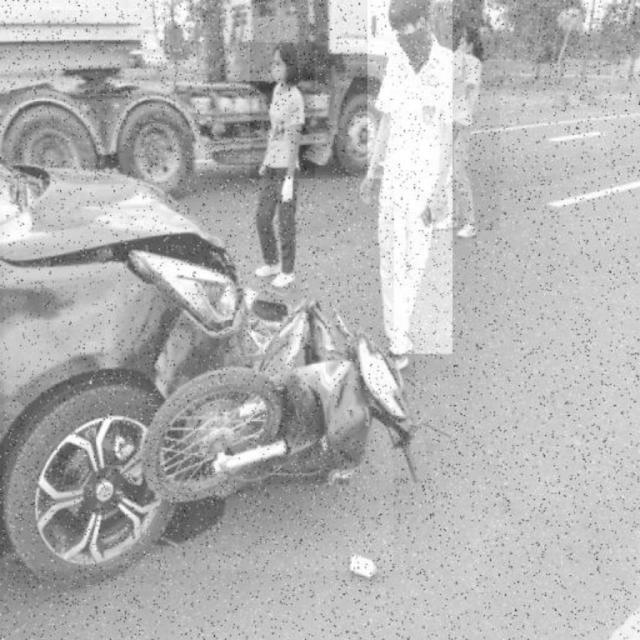accident: (4, 179, 394, 570)
person: (368, 0, 452, 354), (251, 43, 315, 284), (443, 20, 500, 230)
